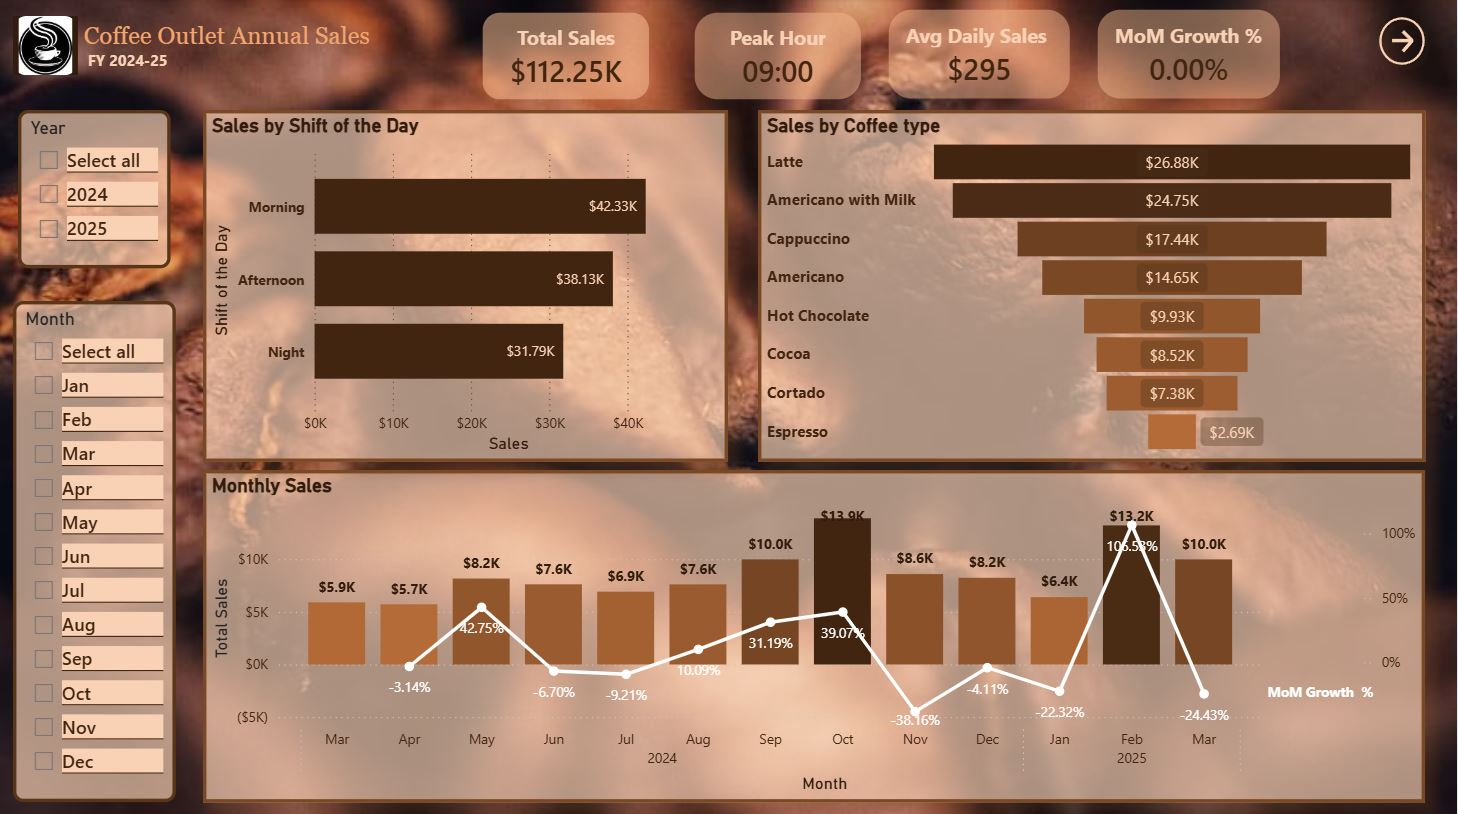

The page's visual inventory and layout, read from the dashboard file:
{"tool":"powerbi","page":{"name":"Summary","canvas":[1280,720],"ordinal":0},"visuals":[{"type":"cardVisual","fields":{"Data":["Coffe_sales data.Total Sales"]},"box":[419.7,7.9,156.3,86],"z":0},{"type":"funnel","fields":{"Category":["Coffe_sales data.Coffee_name"],"Y":["Coffe_sales data.Total Sales"]},"box":[666.4,98.3,585.7,309.1],"z":1000},{"type":"lineStackedColumnComboChart","title":"Monthly Sales ","fields":{"Y":["Coffe_sales data.Total Sales"],"Y2":["Coffe_sales data.MoM Growth  %"],"Category":["Dim_Date.Year Hierarchy.Year","Dim_Date.Year Hierarchy.Month"]},"box":[179.1,414.4,1073,291.5],"z":2000},{"type":"barChart","title":"Sales by Shift of the Day ","fields":{"Category":["Dim_time.Shift_of_Day"],"Y":["Coffe_sales data.Total Sales"]},"box":[179.1,98.3,461,309.1],"z":3000},{"type":"textbox","box":[69.4,15.8,329.3,60.6],"z":4000},{"type":"slicer","title":"Month","fields":{"Values":["Dim_Date.Month"]},"box":[12.3,266,143.1,439.9],"z":5000},{"type":"cardVisual","fields":{"Data":["Coffe_sales data.Peak Hour"]},"box":[605.9,7.9,156.3,86],"z":6000},{"type":"cardVisual","fields":{"Data":["Coffe_sales data.Average Daily Sales"]},"box":[776.2,5.3,169.5,88.7],"z":7000},{"type":"image","box":[12.3,15.8,57.1,51.8],"z":8000},{"type":"cardVisual","fields":{"Data":["Coffe_sales data.Sales MoM %"]},"box":[959.7,5.3,170.3,88.7],"z":9000},{"type":"slicer","title":"Year","fields":{"Values":["Dim_Date.Year"]},"box":[16.7,98.3,134.3,138.7],"z":10000},{"type":"actionButton","box":[1202.9,7.9,58,59.7],"z":11000}]}

Visuals, with their boxes in screenshot pixels (x1, y1, x2, y2), scaled from the page's 1280x720 canvas onto the 1458x814 screenshot:
cardVisual - Coffe_sales data.Total Sales: 478:9:656:106
funnel - Coffe_sales data.Coffee_name x Coffe_sales data.Total Sales: 759:111:1426:461
"Monthly Sales " lineStackedColumnComboChart: 204:469:1426:798
"Sales by Shift of the Day " barChart: 204:111:729:461
textbox: 79:18:454:86
"Month" slicer: 14:301:177:798
cardVisual - Coffe_sales data.Peak Hour: 690:9:868:106
cardVisual - Coffe_sales data.Average Daily Sales: 884:6:1077:106
image: 14:18:79:76
cardVisual - Coffe_sales data.Sales MoM %: 1093:6:1287:106
"Year" slicer: 19:111:172:268
actionButton: 1370:9:1436:76
